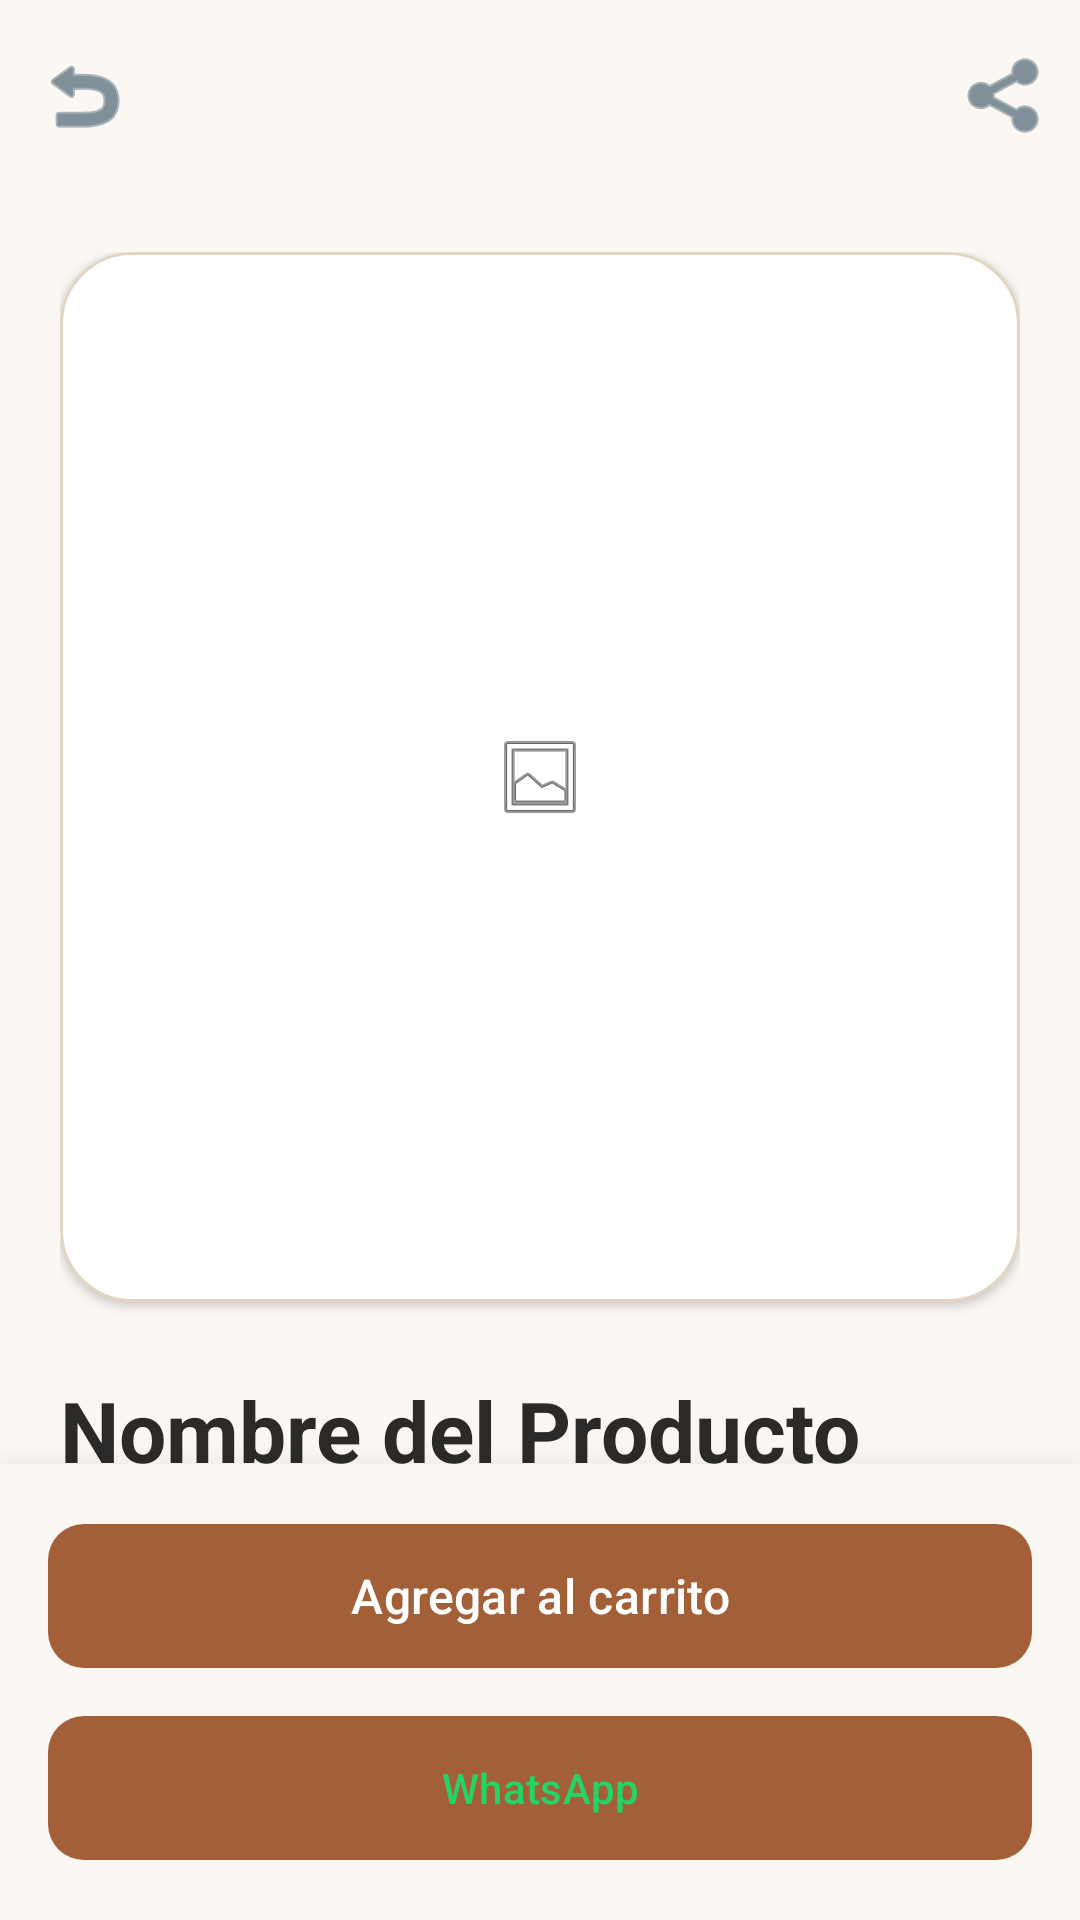

Point at icon controls on the screen. Image size 1080x1920, points as (x=x, y=y).
share: (x=1003, y=95)
